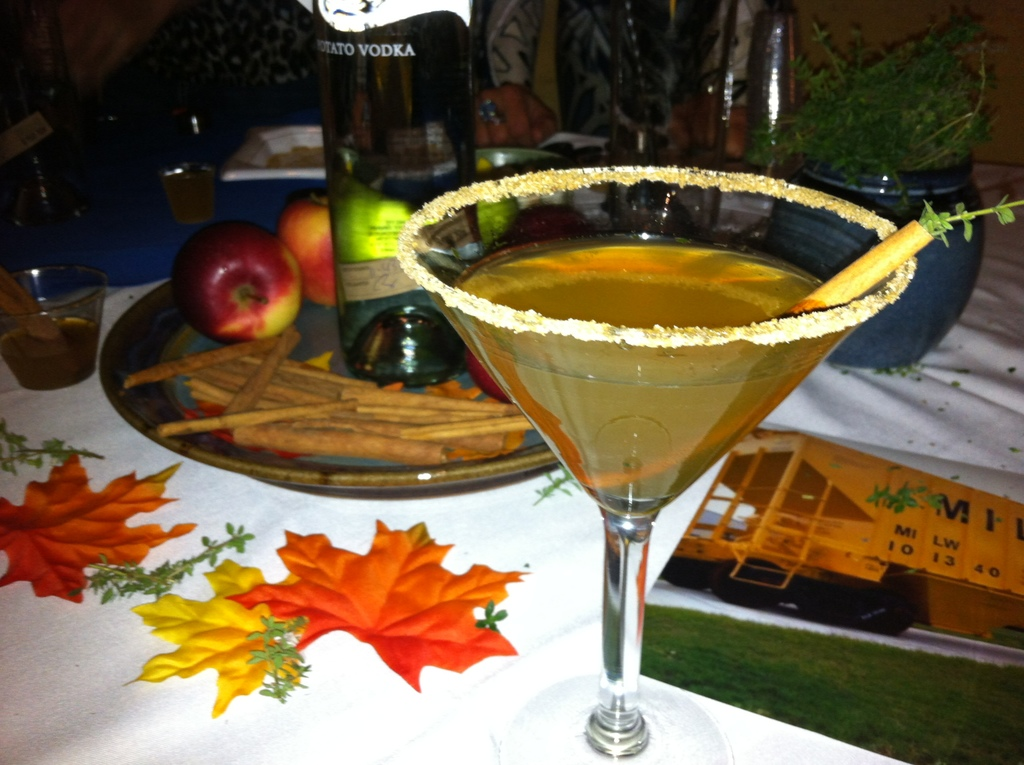Apple: (170, 220, 300, 343), (271, 190, 341, 304)
